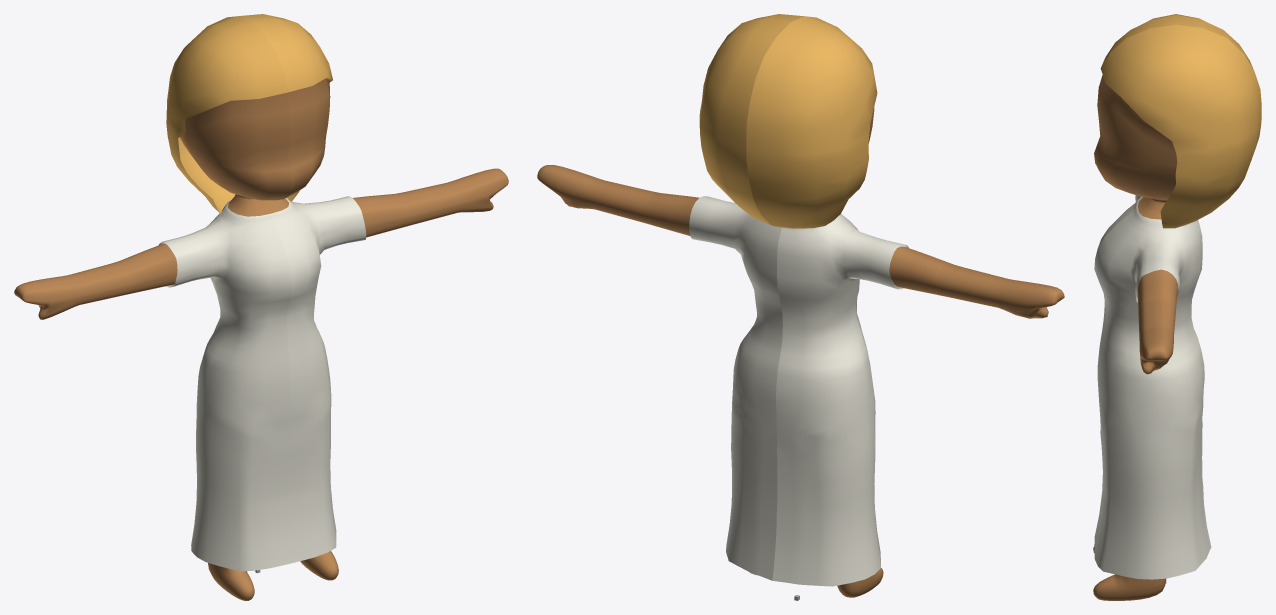
Rendered from _K_Female.fbx.
3 renders of one model, left to right at view 1: azimuth 30°, elevation 25°; view 2: azimuth 150°, elevation 25°; view 3: azimuth 270°, elevation 25°, orthographic. The views are drawn at different scales.
Visible parts, largest first — view 1: Box003; view 2: Box003; view 3: Box003.
Part boxes in pixels (x1,y1,x2,y2): Box003: (14, 14, 508, 600); Box003: (537, 14, 1064, 597); Box003: (1093, 14, 1261, 600).
Size of the model in its own units: 145 by 155 by 42.53.
